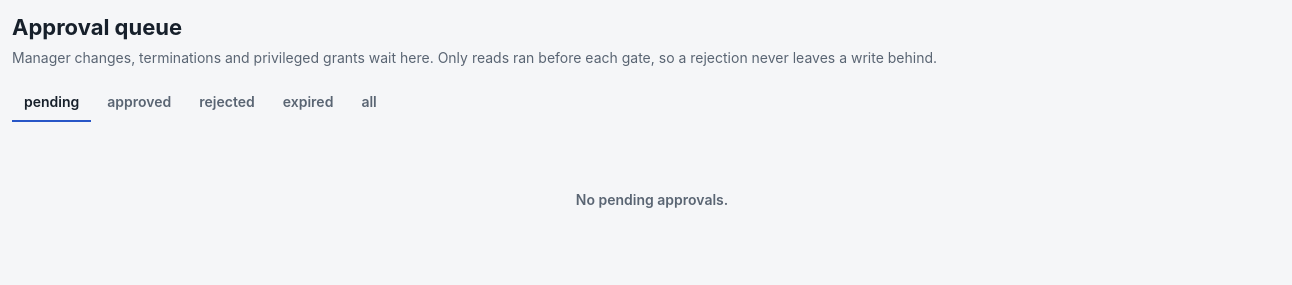
Approvals pending summary › shows no summary on an empty or a decided tab
Expected: the text "No pending approvals." is shown, 576,192 -> 728,208
Click the tab "approved" at (139, 103), box 95,84 -> 183,122
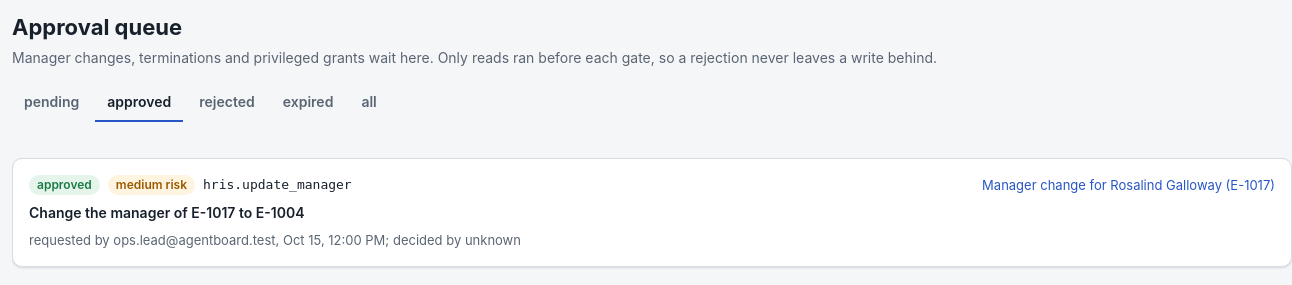
Expected: the text "Change the manager of E-1017 to E-1004" is shown, 29,204 -> 304,221
